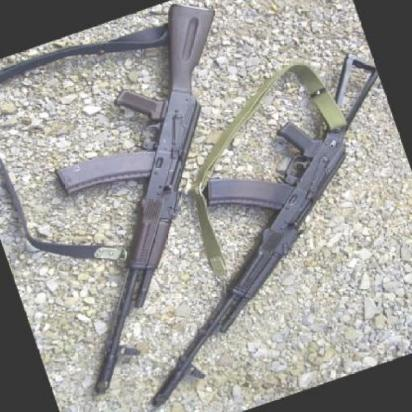Gun: (0, 0, 323, 402), (59, 43, 412, 406)
